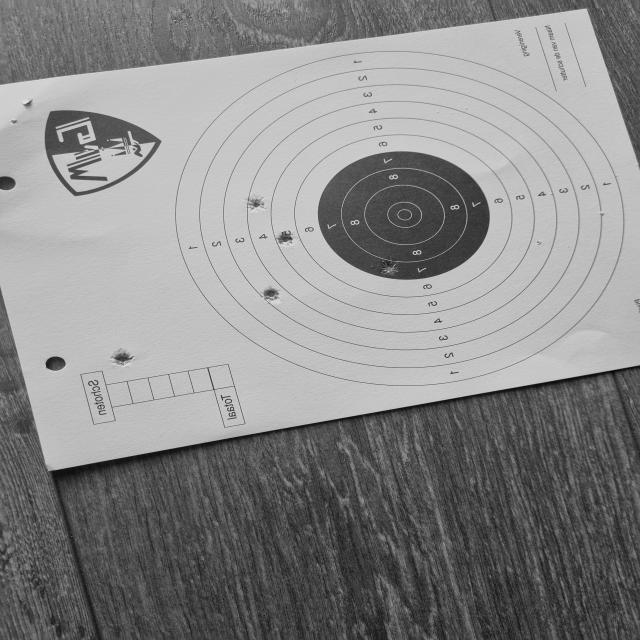0: (110, 349, 135, 365)
3: (261, 286, 282, 304)
4: (246, 197, 267, 210)
5: (276, 232, 299, 246)
8: (380, 257, 399, 274)
Target: (173, 54, 624, 388)
black_contour: (318, 151, 488, 279)
